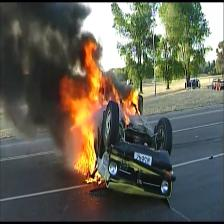fire: (64, 43, 153, 183)
smoke: (0, 4, 84, 152)
